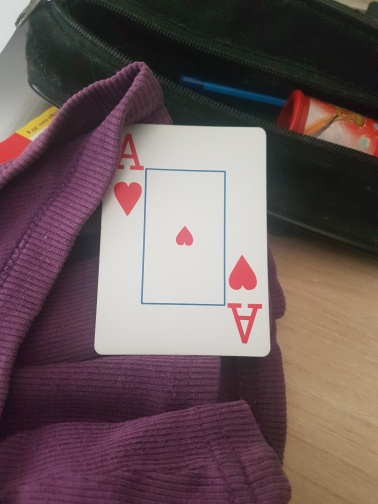ace: (95, 124, 270, 356)
